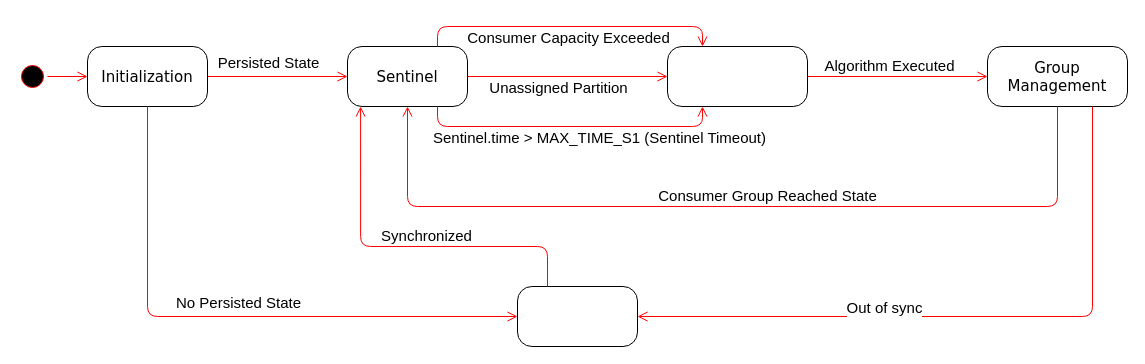
Some shapes in this 1145 by 364 pixel diagram are drawn without their labels. Each missing label, with the centre of its shape:
"Reassign Algorithm" belongs at point 737,76.
"Synchronize" belongs at point 577,316.
